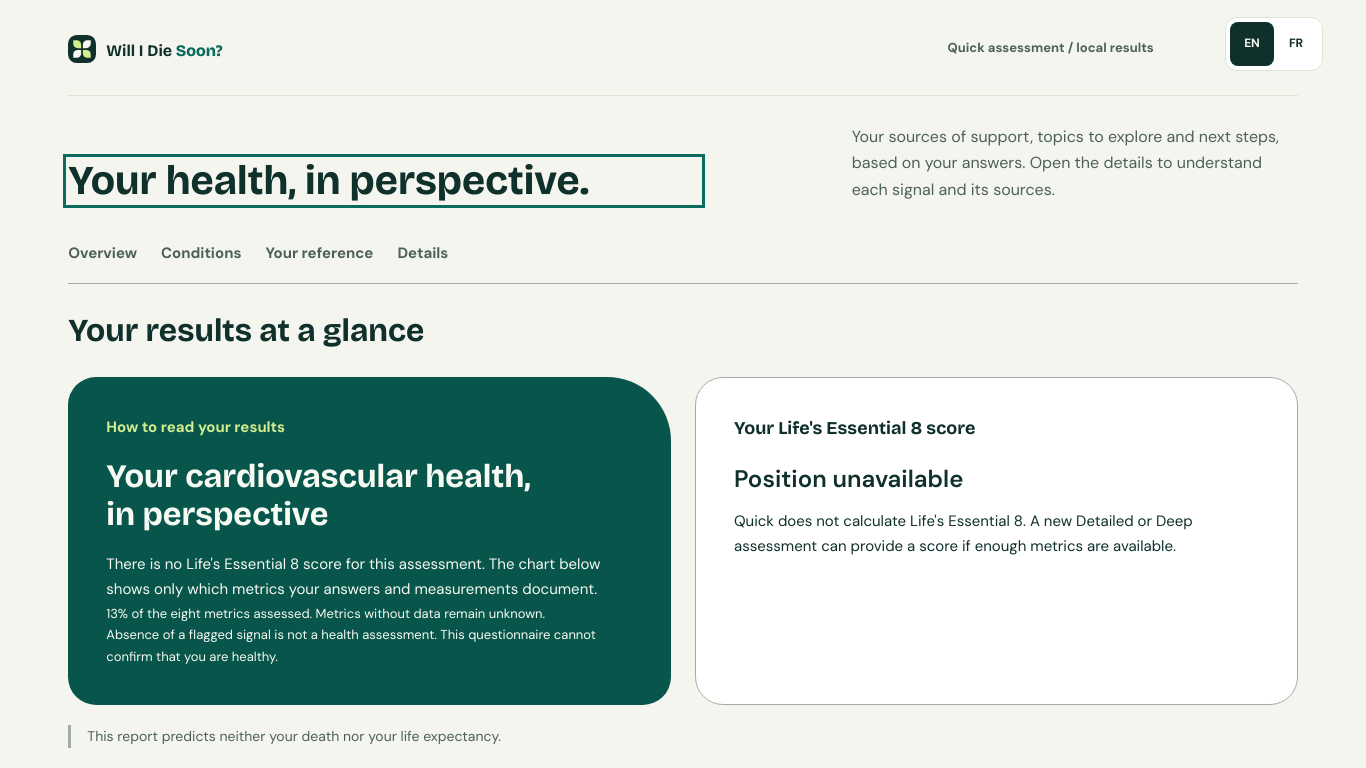
it: a published percentage reads as X in 100 and compares healthier habits at an equal profile
Click the button with aria-label "Français": (1296, 44) [1274,22,1318,66]
(page scrolled)
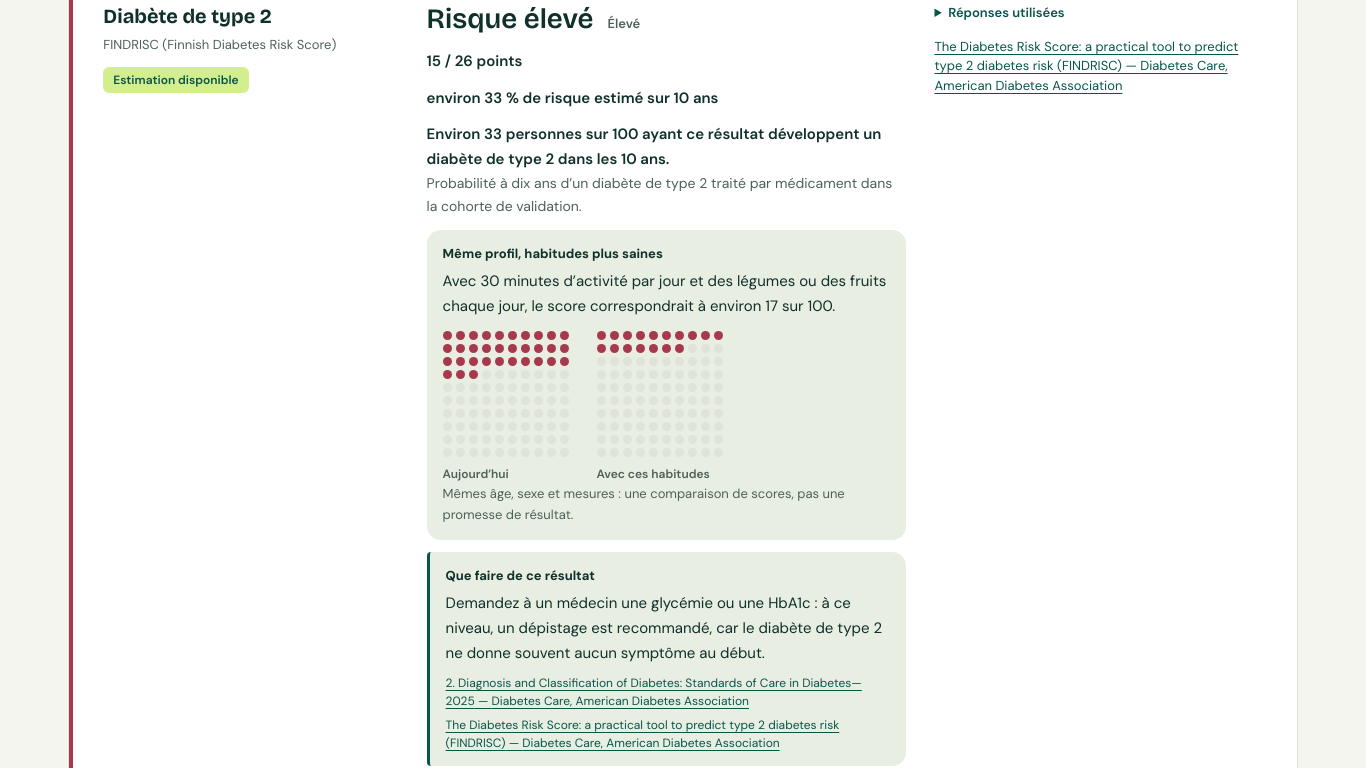
Check: the list item named "Type 2 diabetes" shows "Environ 33 personnes sur 100 ayant ce résultat développent un diabète de type 2 dans les 10 ans.", box [427,124,881,169]
Check: the list item named "Type 2 diabetes" shows "Avec 30 minutes d’activité par jour et des légumes ou des fruits chaque jour, le score correspondrait à environ 17 sur 100.", box [443,272,886,316]
